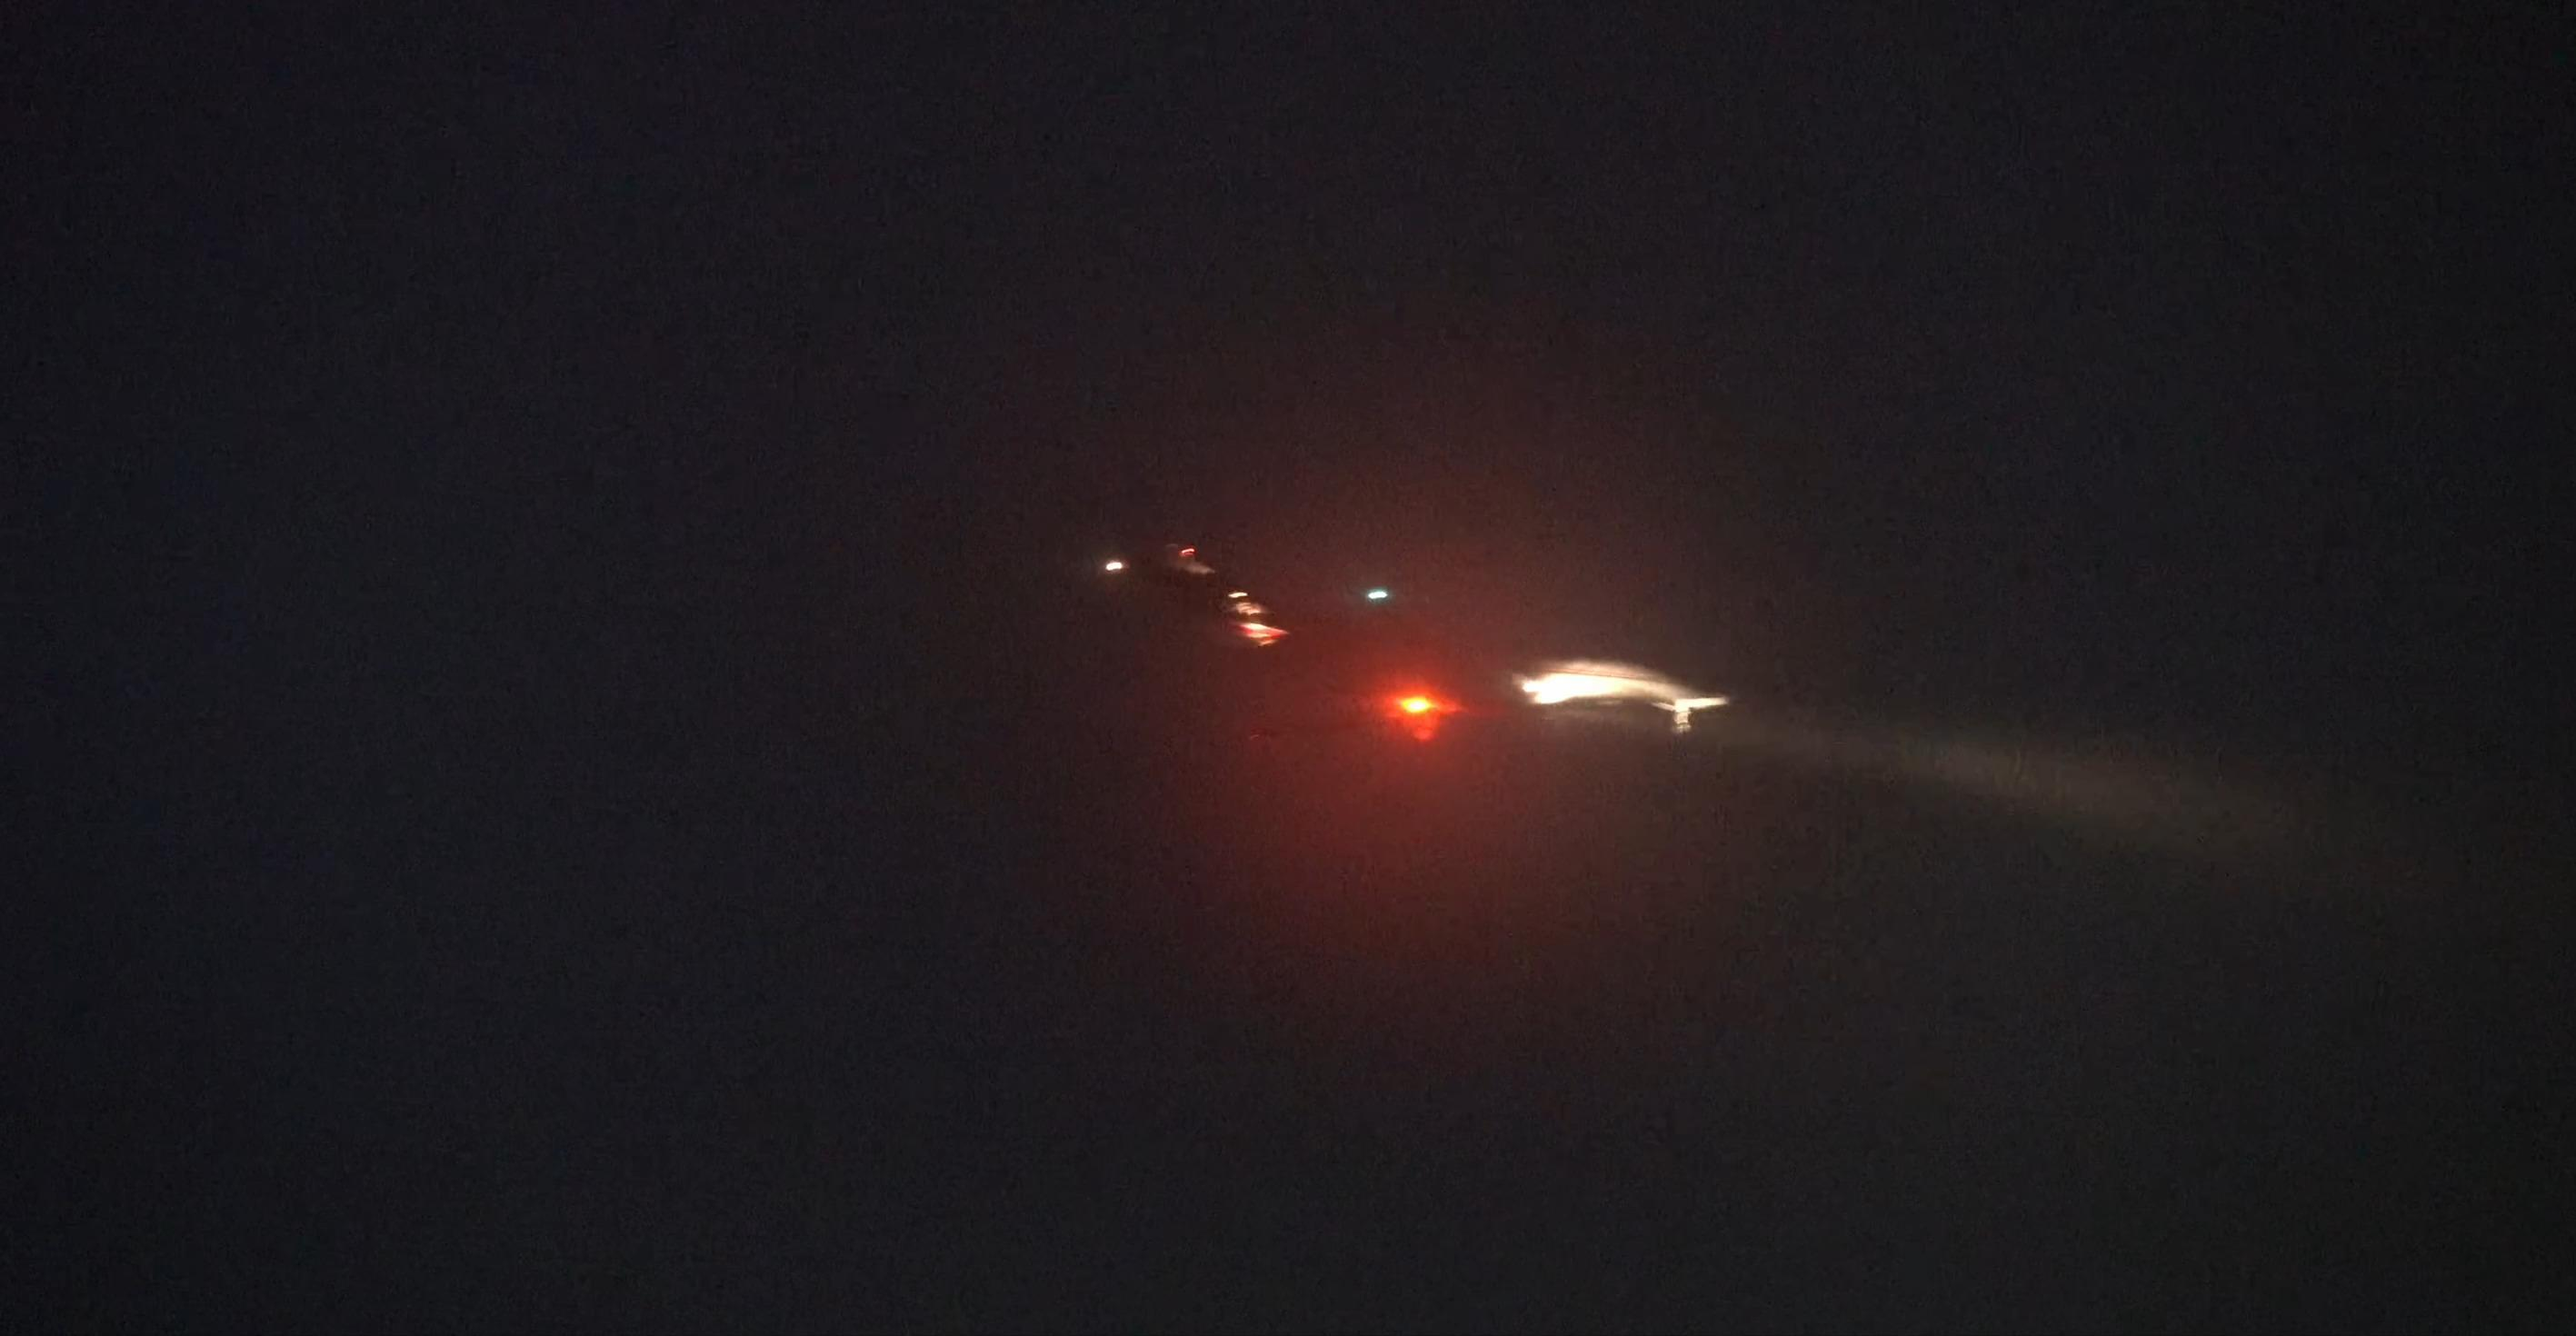Plane: (1017, 515, 1717, 763)
